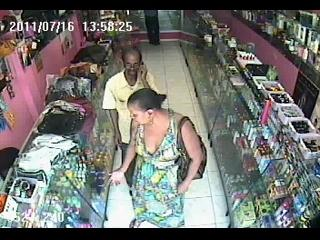Normal: (112, 88, 205, 227), (102, 48, 162, 168), (144, 10, 160, 46)
